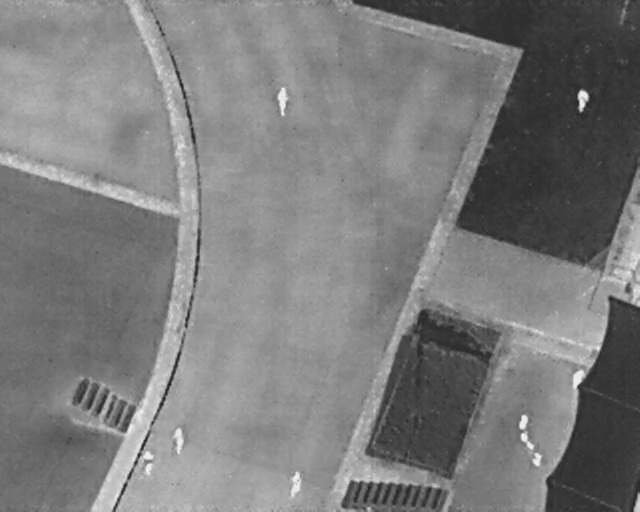Person: (566, 363, 589, 395), (285, 466, 305, 502), (573, 85, 592, 115), (139, 450, 157, 477), (276, 83, 289, 118), (172, 426, 185, 456)
